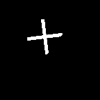single_crochet: (28, 20, 61, 53)
